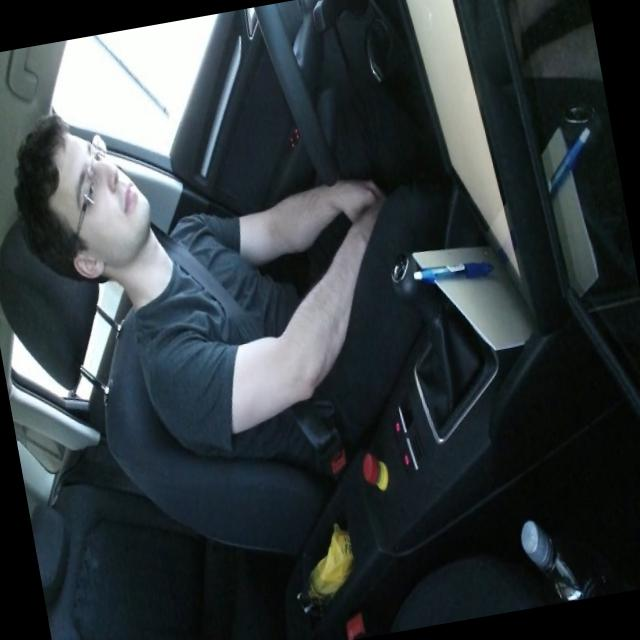pen: (411, 254, 494, 288)
